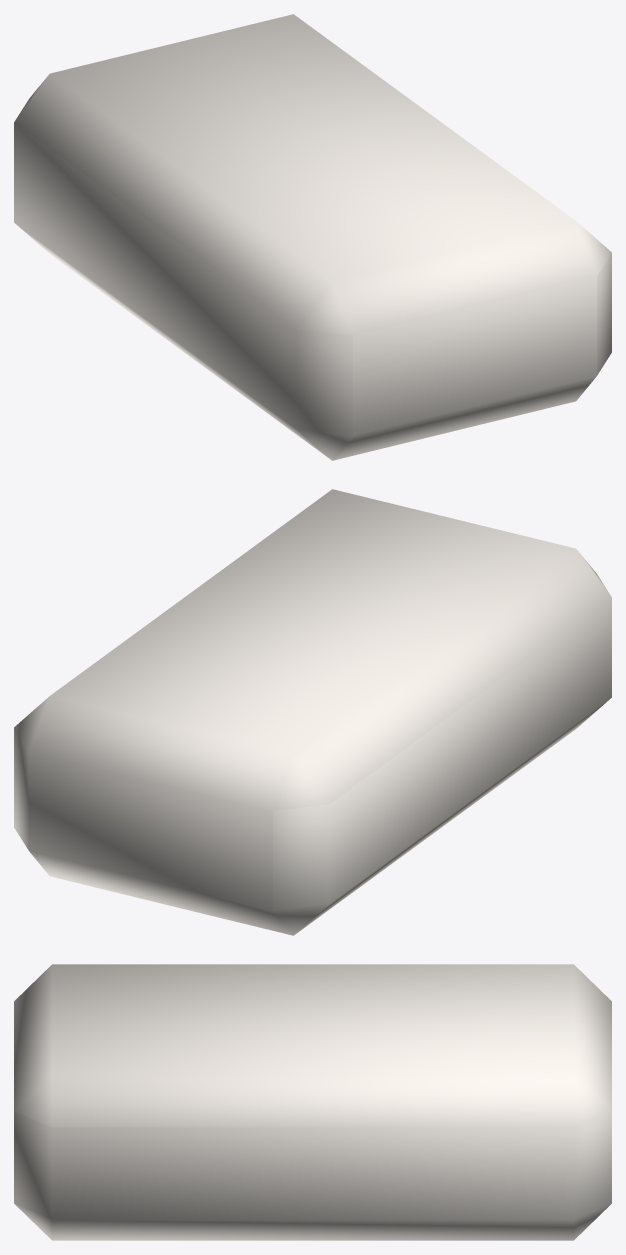
File: Soap_04.glb
The picture shows the model from 3 angles, top to bottom: view 1: azimuth 30°, elevation 25°; view 2: azimuth 150°, elevation 25°; view 3: azimuth 270°, elevation 25°; orthographic projection. The views are drawn at different scales.
Visible parts, largest first — view 1: Soap_04; view 2: Soap_04; view 3: Soap_04.
Part boxes in pixels (bbox=[...]): Soap_04: bbox=[14, 14, 611, 460]; Soap_04: bbox=[14, 489, 611, 935]; Soap_04: bbox=[14, 964, 611, 1240].
Bounding box in the file's own units: 0.0595 × 0.0325 × 0.1058.
Materials: 1 (1 with a texture image).
